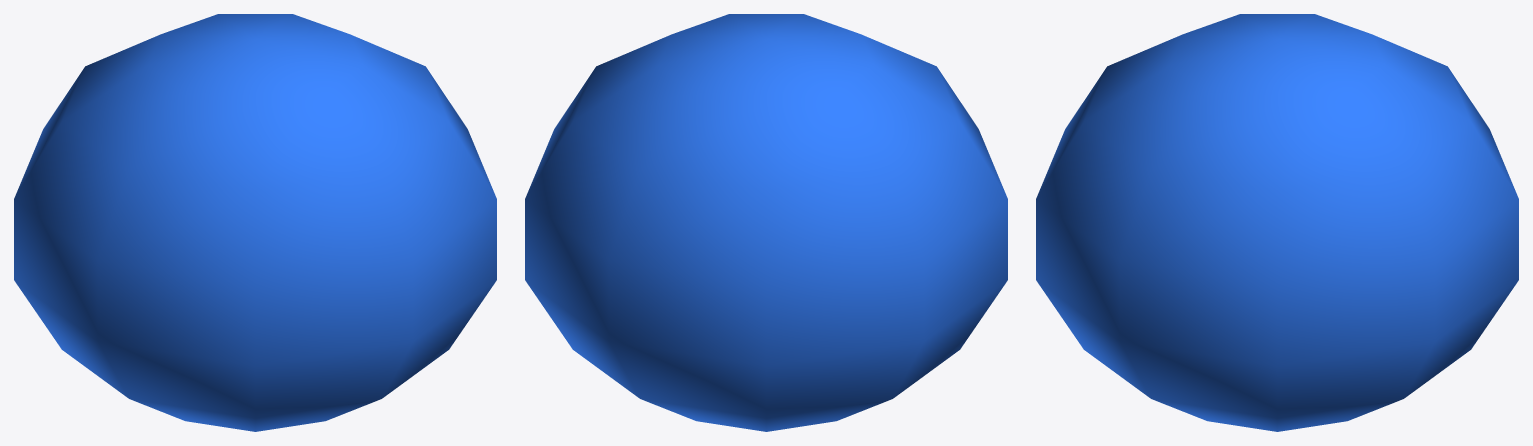
The model's file is droplet_stage1.obj.
The picture shows the model from 3 angles, left to right: view 1: azimuth 30°, elevation 25°; view 2: azimuth 150°, elevation 25°; view 3: azimuth 270°, elevation 25°; orthographic projection.
Bounding box in the file's own units: 1.23 × 1.04 × 1.25.
